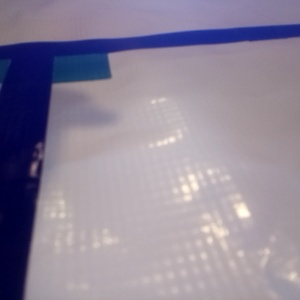top_right: (108, 31, 193, 74)
